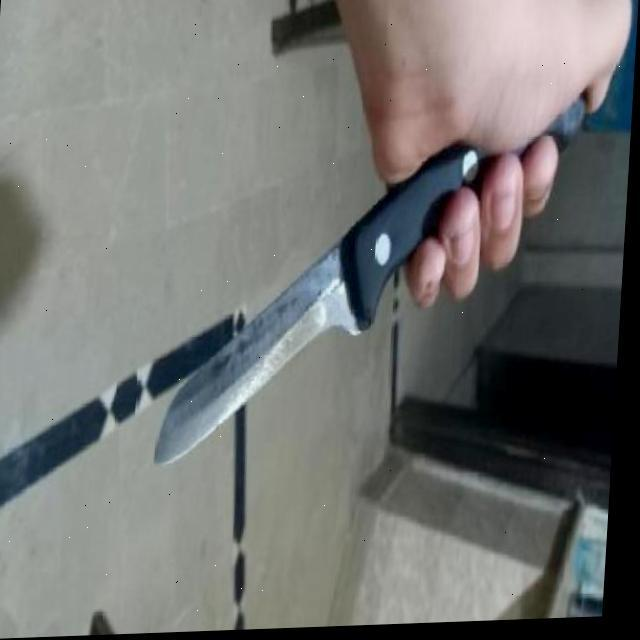knife: (158, 98, 589, 468)
